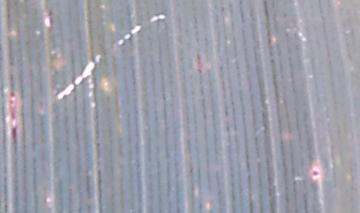tarspot: (6, 97, 15, 105), (9, 89, 16, 98), (311, 169, 319, 176)
